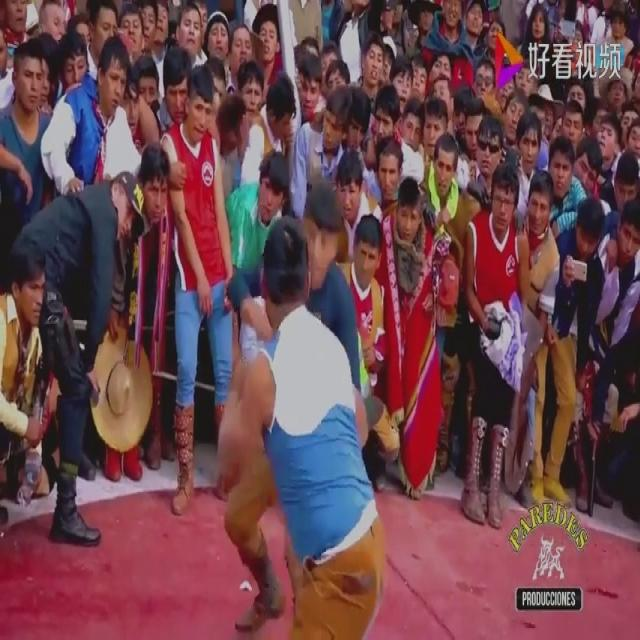fight: (210, 178, 390, 640)
non-fight: (4, 186, 146, 554)
